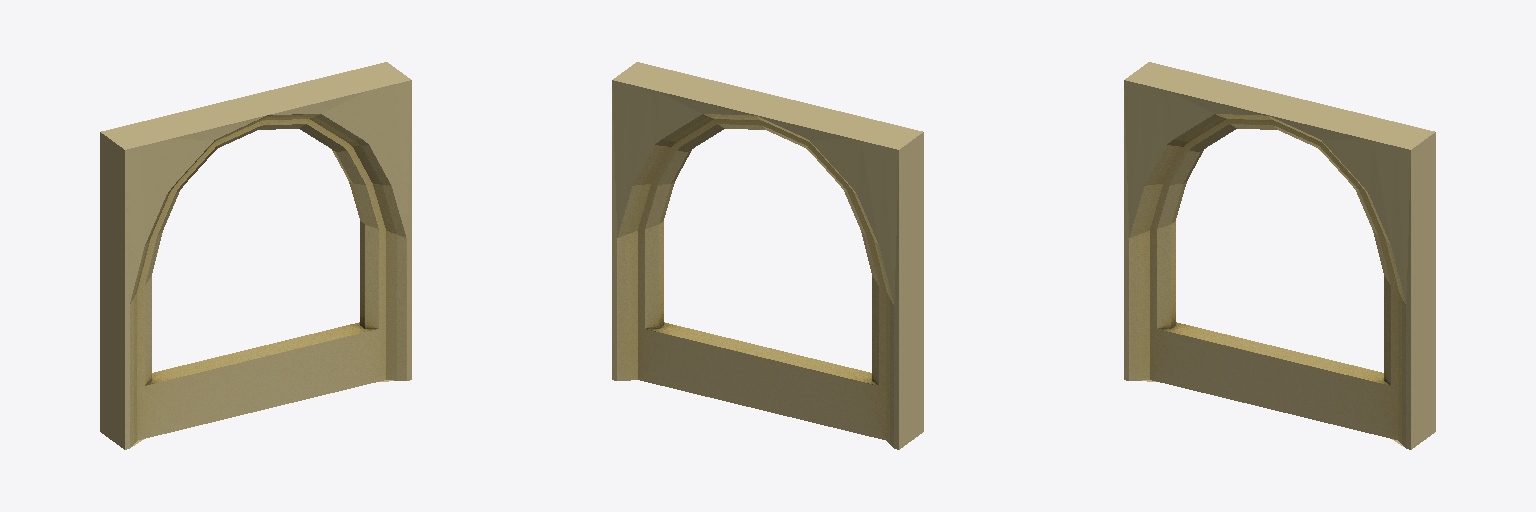
The picture shows the model from 3 angles: view 1: azimuth 30°, elevation 25°; view 2: azimuth 150°, elevation 25°; view 3: azimuth 330°, elevation 25°; orthographic projection.
Parts seen in each view (by area): view 1: Circle.004_Circle.003; view 2: Circle.004_Circle.003; view 3: Circle.004_Circle.003.
Boxes of the visible parts, x1=… form: Circle.004_Circle.003: x1=100, y1=62, x2=411, y2=449; Circle.004_Circle.003: x1=612, y1=62, x2=923, y2=449; Circle.004_Circle.003: x1=1124, y1=62, x2=1435, y2=449.
Bounding box in the file's own units: 4 × 4 × 0.5999.
1 materials, 1 textured.